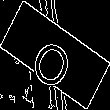O_NE: (29, 22, 81, 88)
